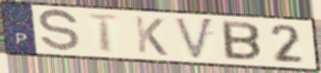2: (269, 23, 306, 65)
B: (220, 19, 264, 63)
K: (132, 15, 170, 57)
S: (37, 8, 83, 54)
T: (85, 13, 122, 54)
V: (173, 16, 216, 62)
